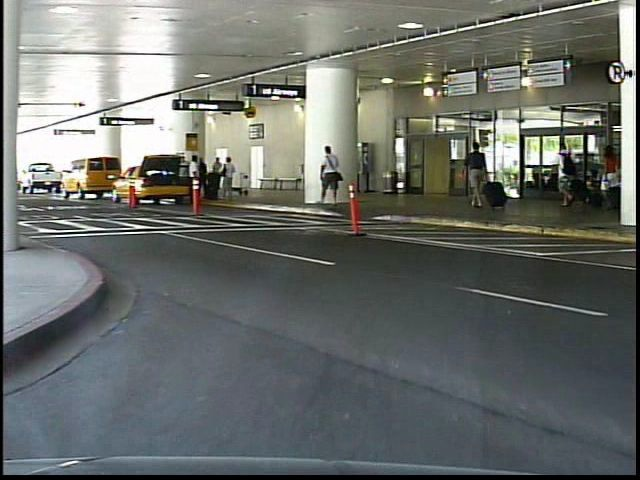person: (550, 138, 587, 218), (597, 133, 626, 218), (464, 138, 494, 214), (318, 143, 349, 210)
